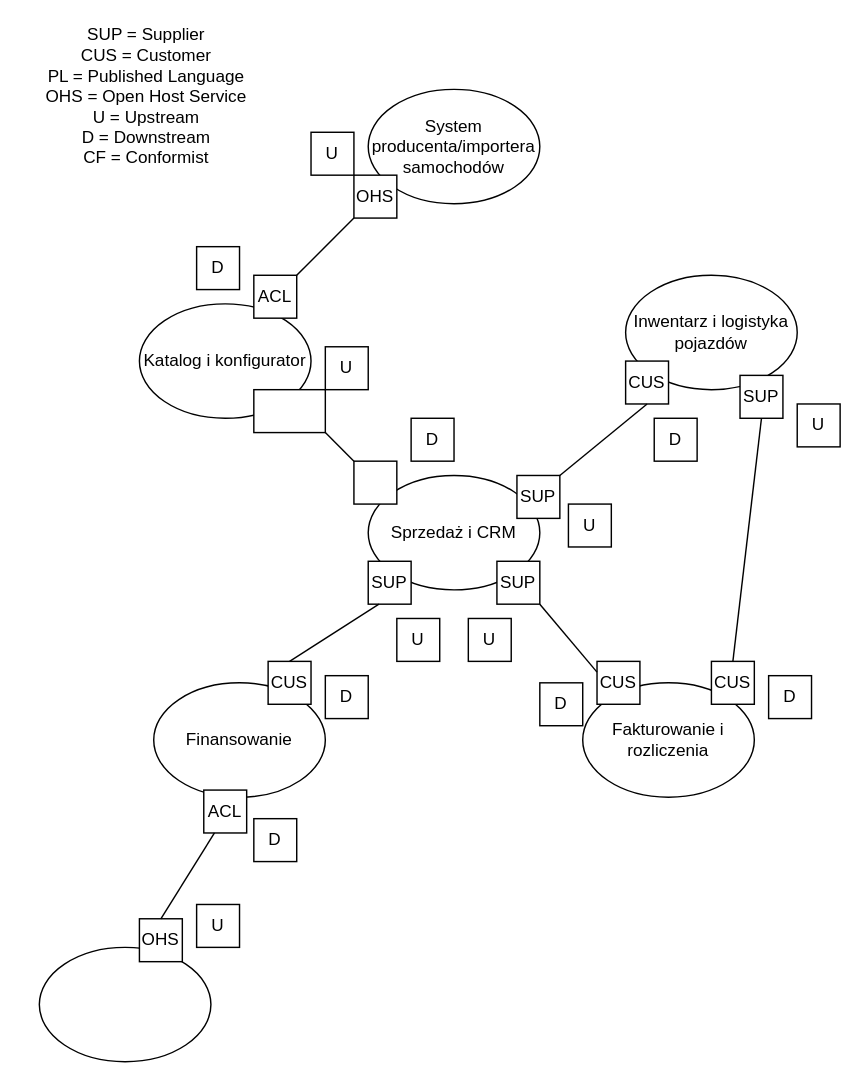
The diagram is 865 pixels wide and 1087 high, and some of its shapes have lost their labels. The shapes that lost their labels are listed below. From the top down, each one's centre as x and y in pixels, then its label:
At (x=288, y=410): "OHS+PL".
At (x=374, y=482): "CF".
At (x=124, y=1004): "System bankowy".
